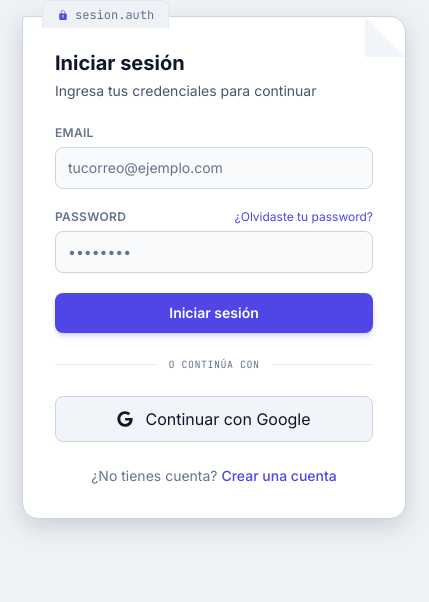
Test: LoginView › debe mostrar errores de validación si se envía el formulario vacío
Click the button "Iniciar sesión": {"x": 214, "y": 313} x1=55 y1=293 x2=373 y2=333
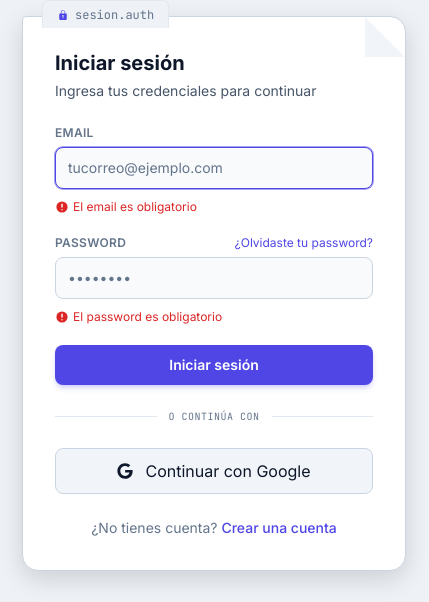
expect the text "El email es obligatorio" is shown: met, box x1=55 y1=199 x2=197 y2=214
expect the text "El password es obligatorio" is shown: met, box x1=55 y1=309 x2=222 y2=324
